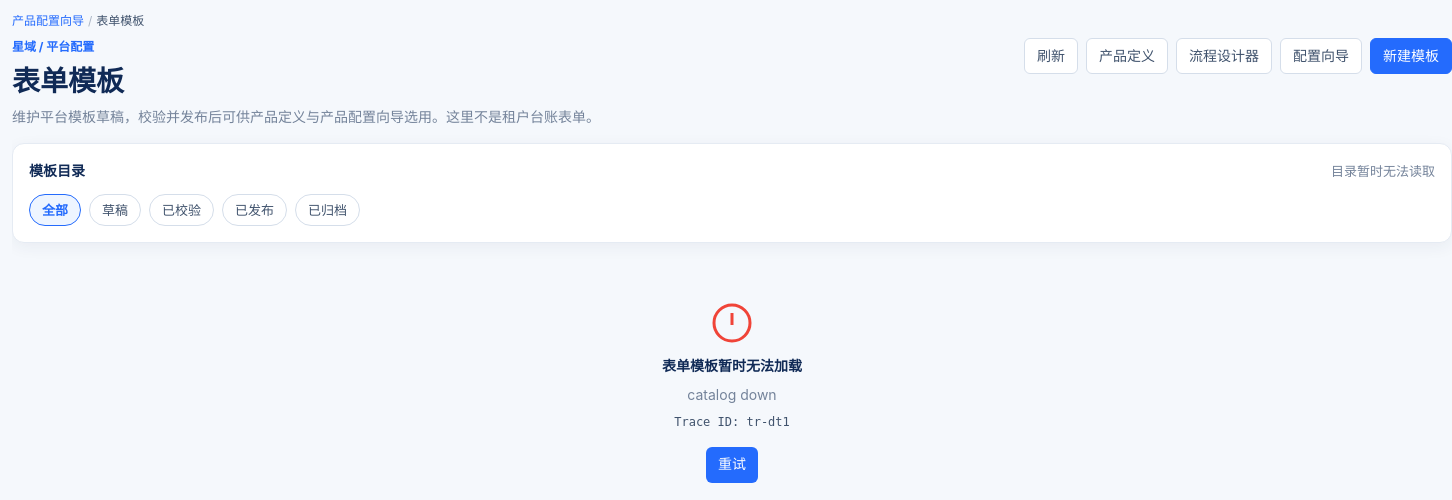
Test: form template list › surfaces load failures with the table error S shell
This screenshot has width=1452, height=500.
Expected: the message with test id "nx-data-table-error" shows "表单模板暂时无法加载", [662,356,802,374]
Expected: the message with test id "nx-data-table-error" shows "catalog down", [687,386,777,402]
What coordinates should you click on to do the following:
click the button "重试"
I would click on:
 (732, 464)
Its box is [706,446,758,482].
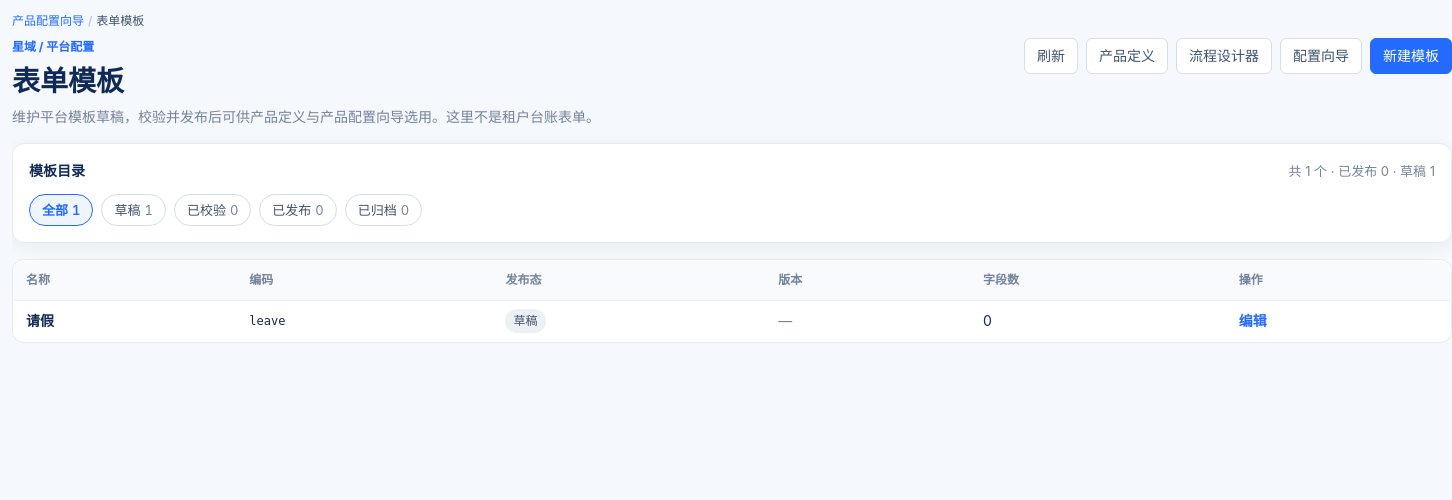
Expected: the table with test id "nx-data-table" shows "请假", [26,312,54,329]
